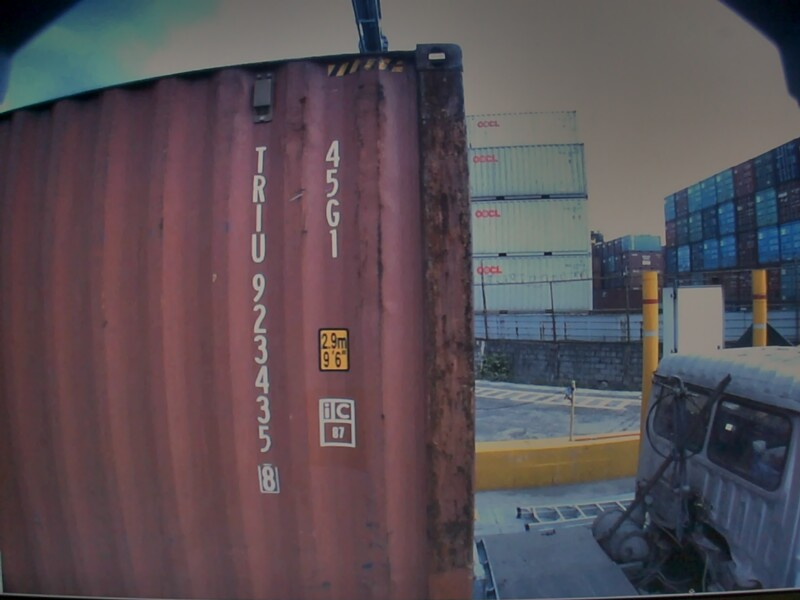container_no_door: (109, 35, 476, 531)
